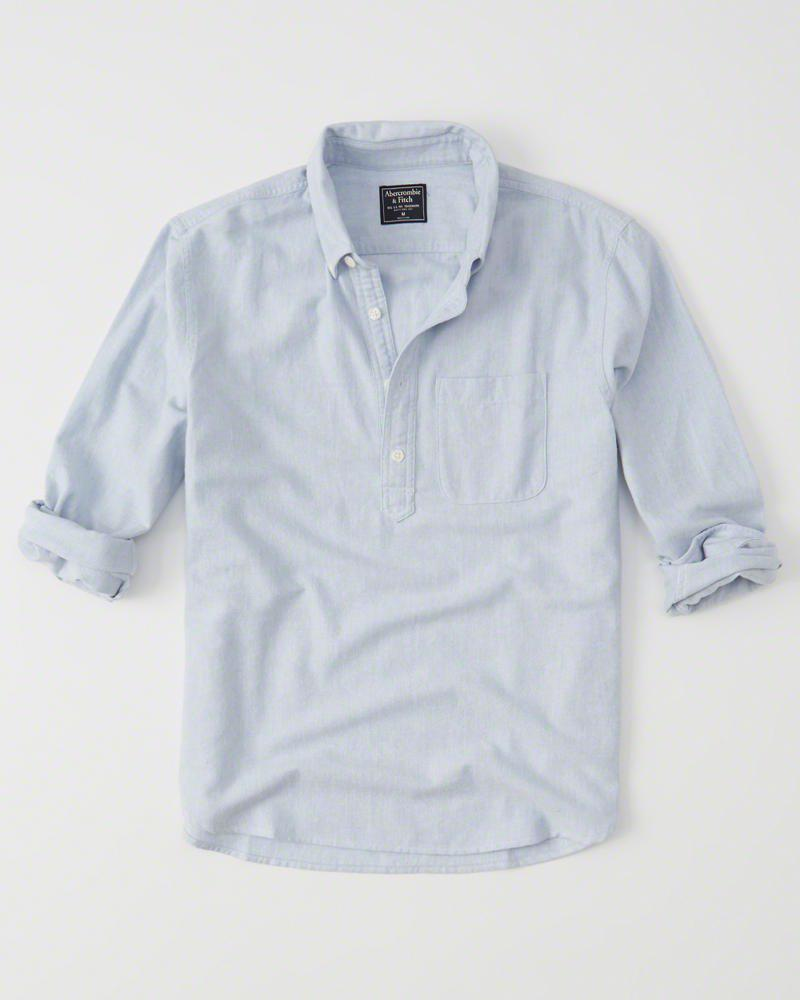teeshirt: (26, 113, 795, 887)
